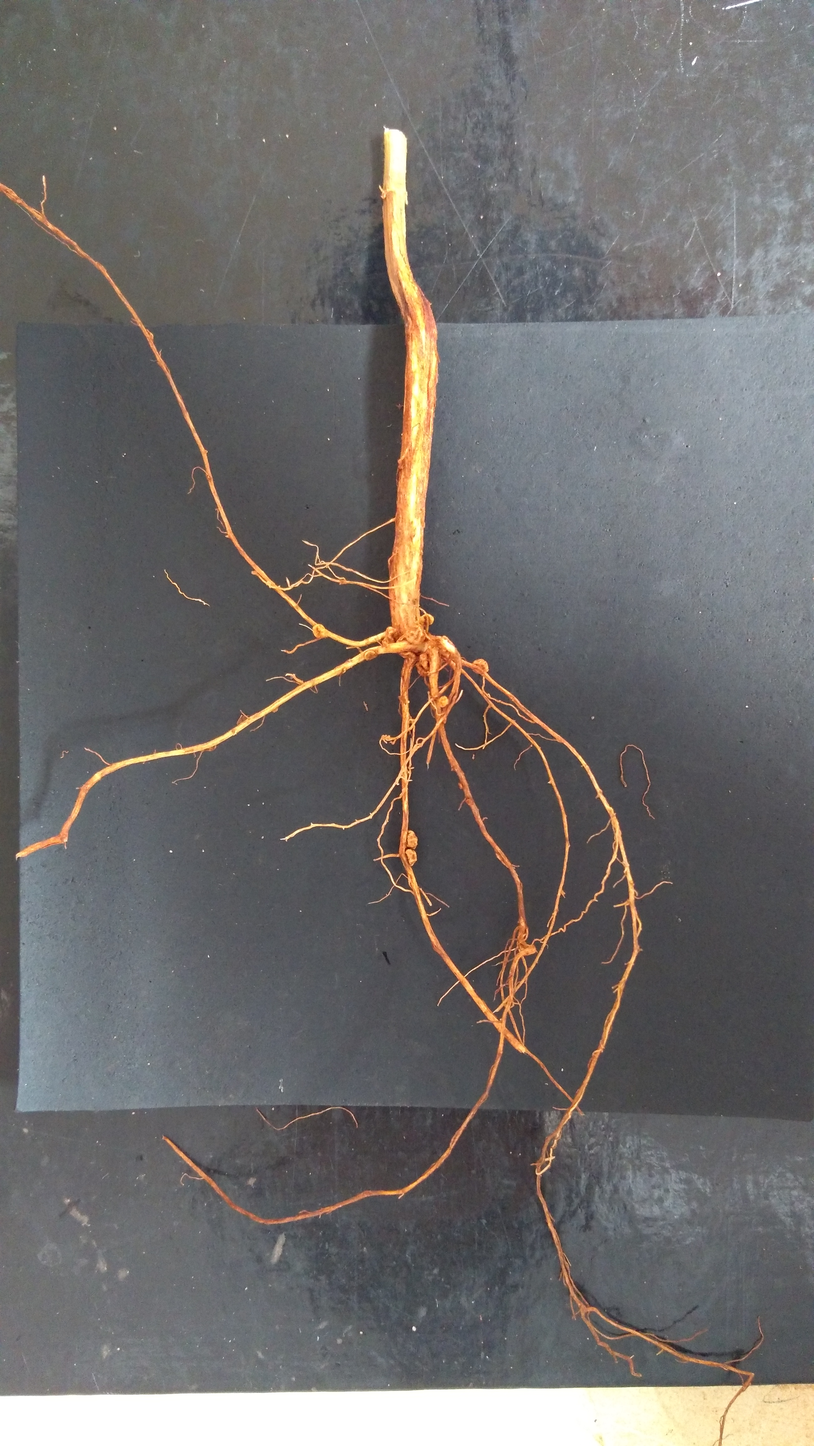nodule: (438, 635, 456, 661), (405, 625, 427, 645), (396, 633, 412, 659), (415, 653, 431, 677), (381, 626, 399, 647), (472, 658, 489, 674), (419, 652, 433, 671), (405, 830, 418, 850), (518, 944, 537, 956), (405, 848, 417, 866), (312, 624, 326, 639), (419, 613, 434, 626), (364, 649, 377, 662), (439, 695, 449, 708), (145, 329, 153, 340), (397, 459, 404, 470), (272, 707, 278, 713)
